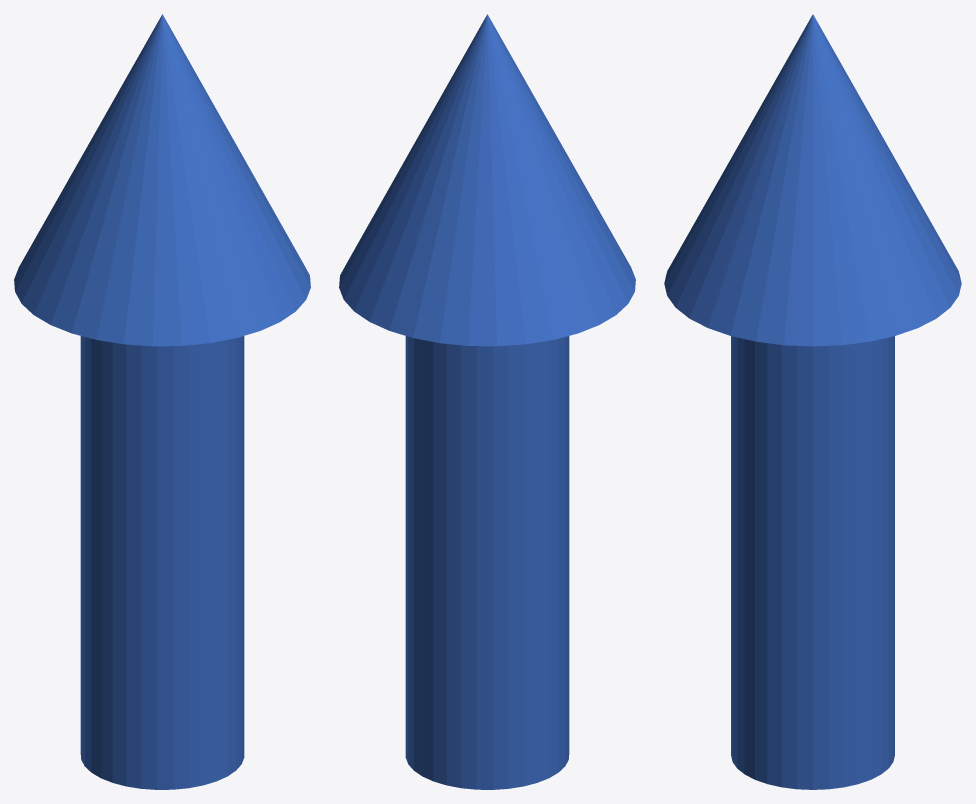
File: Arrow.fbx
3 renders of one model, left to right at view 1: azimuth 30°, elevation 25°; view 2: azimuth 150°, elevation 25°; view 3: azimuth 270°, elevation 25°, orthographic.
Parts seen in each view (by area): view 1: Cylinder; view 2: Cylinder; view 3: Cylinder.
Part boxes in pixels (<box>): Cylinder: <box>14,14,310,789</box>; Cylinder: <box>339,14,635,789</box>; Cylinder: <box>664,14,961,789</box>.
Bounding box in the file's own units: 200 × 550 × 200.
